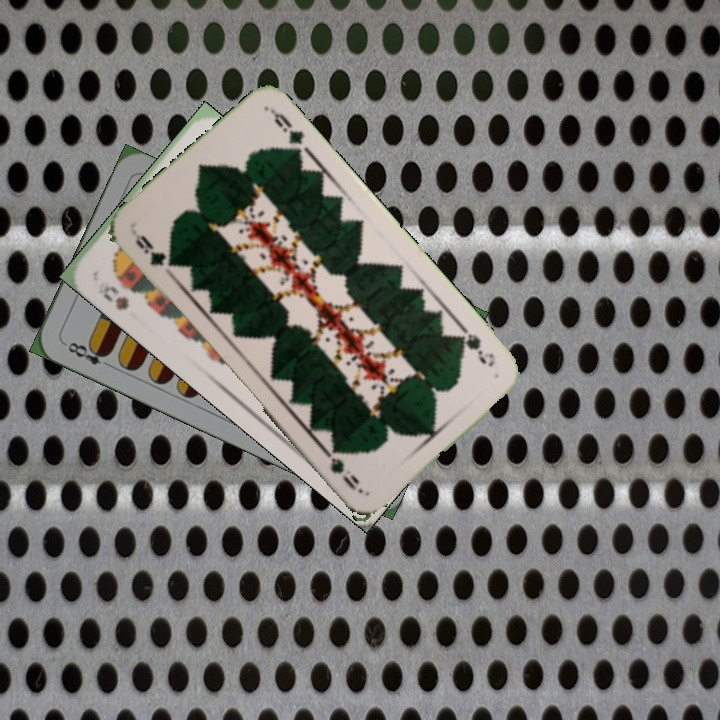E8: (60, 338, 115, 371)
G9: (452, 323, 498, 370), (131, 230, 178, 270)
S8: (94, 277, 132, 313)
